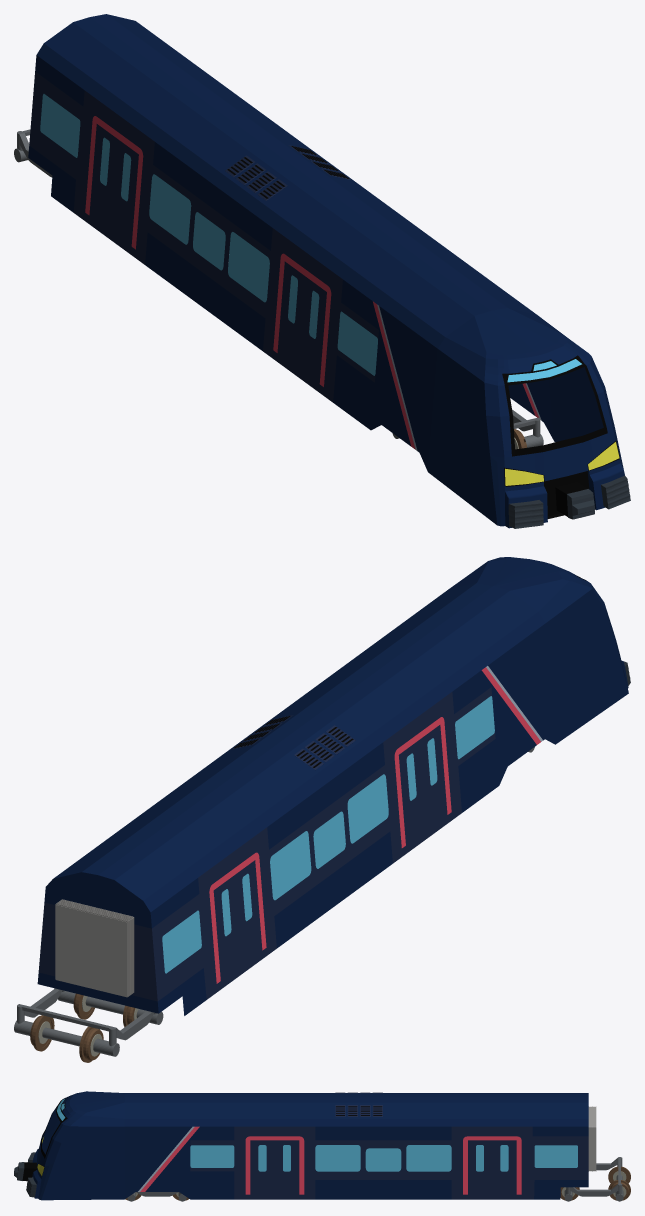
The model's file is type_76_cab_2b.fbx.
The picture shows the model from 3 angles, top to bottom: view 1: azimuth 30°, elevation 25°; view 2: azimuth 150°, elevation 25°; view 3: azimuth 270°, elevation 25°; orthographic projection. The views are drawn at different scales.
Visible parts, largest first — view 1: Cab_2_Sphere.004; view 2: Cab_2_Sphere.004; view 3: Cab_2_Sphere.004.
Part boxes in pixels (bbox=[...]): Cab_2_Sphere.004: bbox=[14, 14, 630, 528]; Cab_2_Sphere.004: bbox=[14, 557, 630, 1062]; Cab_2_Sphere.004: bbox=[14, 1091, 630, 1201].
Size of the model in its own units: 356 by 426 by 2499.
